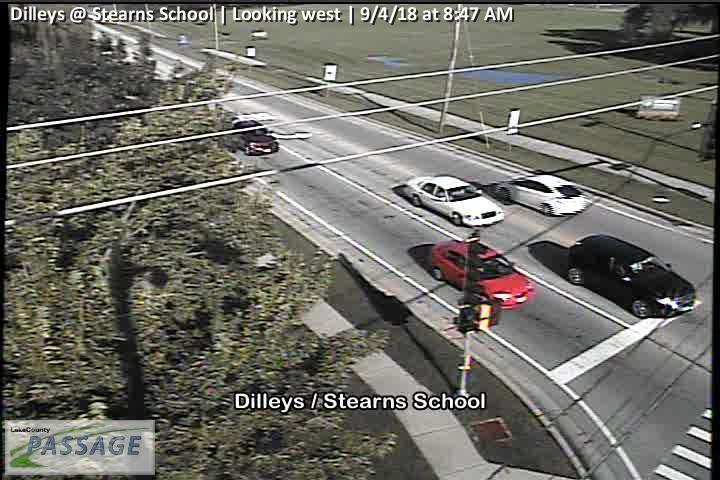SUV: (568, 235, 697, 319)
Sedan: (431, 239, 535, 310), (402, 174, 505, 227), (493, 172, 592, 216), (231, 119, 278, 155)
